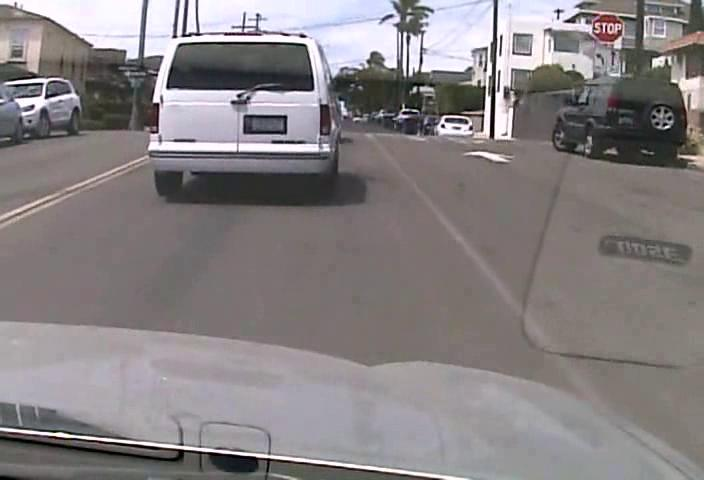stop: (591, 12, 624, 43)
